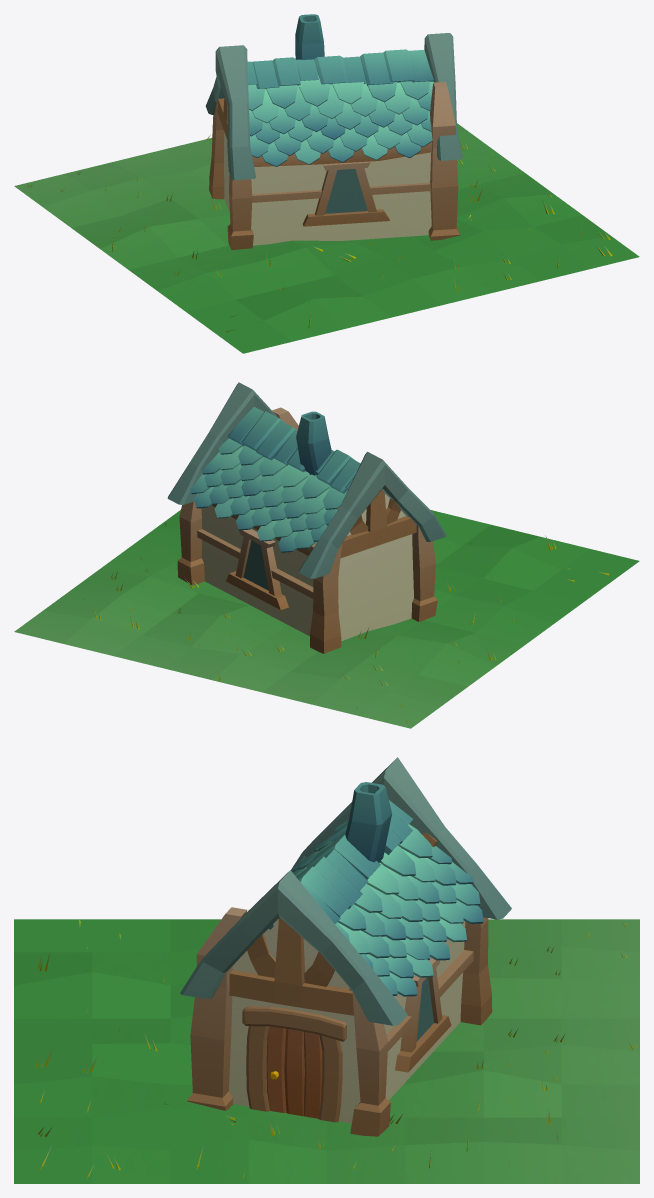
Rendered from House.gltf.
3 renders of one model, top to bottom at view 1: azimuth 30°, elevation 25°; view 2: azimuth 150°, elevation 25°; view 3: azimuth 270°, elevation 25°, orthographic. The views are drawn at different scales.
Visible parts, largest first — view 1: Plane, Circle.089, Cube, Cube.006, Cube.002, Cube.024, Cube.036, Cube.001, Circle.019, Cube.025, Cube.037, Cube.010 (+1 smaller); view 2: Plane, Circle.019, Cube, Cube.002, Cube.006, Cube.025, Cube.001, Cube.004, Cube.010, Cube.009, Cube.037; view 3: Plane, Circle.019, Cube.001, Cube, Cube.008, Cube.020, Cube.024, Cube.002, Cube.006, Cube.025, Cube.009, Cube.037 (+4 smaller).
Part boxes in pixels (left/top/right/bottom): Plane: left=14, top=123, right=639, bottom=353; Circle.089: left=248, top=75, right=433, bottom=166; Cube: left=224, top=131, right=431, bottom=245; Cube.006: left=247, top=49, right=434, bottom=88; Cube.002: left=205, top=45, right=255, bottom=180; Cube.024: left=428, top=81, right=460, bottom=240; Cube.036: left=252, top=161, right=430, bottom=226; Cube.001: left=424, top=33, right=462, bottom=160; Circle.019: left=227, top=174, right=253, bottom=249; Cube.025: left=325, top=169, right=367, bottom=213; Cube.037: left=295, top=14, right=324, bottom=59; Cube.010: left=209, top=100, right=224, bottom=199; Plane: left=14, top=510, right=639, bottom=728; Circle.019: left=190, top=438, right=437, bottom=621; Cube: left=201, top=494, right=413, bottom=641; Cube.002: left=298, top=451, right=446, bottom=578; Cube.006: left=227, top=406, right=360, bottom=493; Cube.025: left=197, top=529, right=313, bottom=609; Cube.001: left=167, top=382, right=276, bottom=504; Cube.004: left=337, top=490, right=416, bottom=557; Cube.010: left=310, top=544, right=341, bottom=653; Cube.009: left=177, top=501, right=204, bottom=585; Cube.037: left=296, top=411, right=331, bottom=475; Plane: left=14, top=919, right=639, bottom=1183; Circle.019: left=335, top=824, right=483, bottom=996; Cube.001: left=180, top=870, right=407, bottom=1025; Cube: left=229, top=919, right=465, bottom=1123; Cube.008: left=229, top=918, right=353, bottom=1015; Cube.020: left=242, top=1006, right=346, bottom=1122; Cube.024: left=187, top=907, right=247, bottom=1110; Cube.002: left=291, top=757, right=511, bottom=919; Cube.006: left=269, top=800, right=413, bottom=929; Cube.025: left=386, top=950, right=473, bottom=1072; Cube.009: left=350, top=991, right=390, bottom=1136; Cube.037: left=345, top=782, right=392, bottom=862.
Bounding box in the file's own units: 10 × 5.24 × 10.
Materials: 1 (1 with a texture image).
